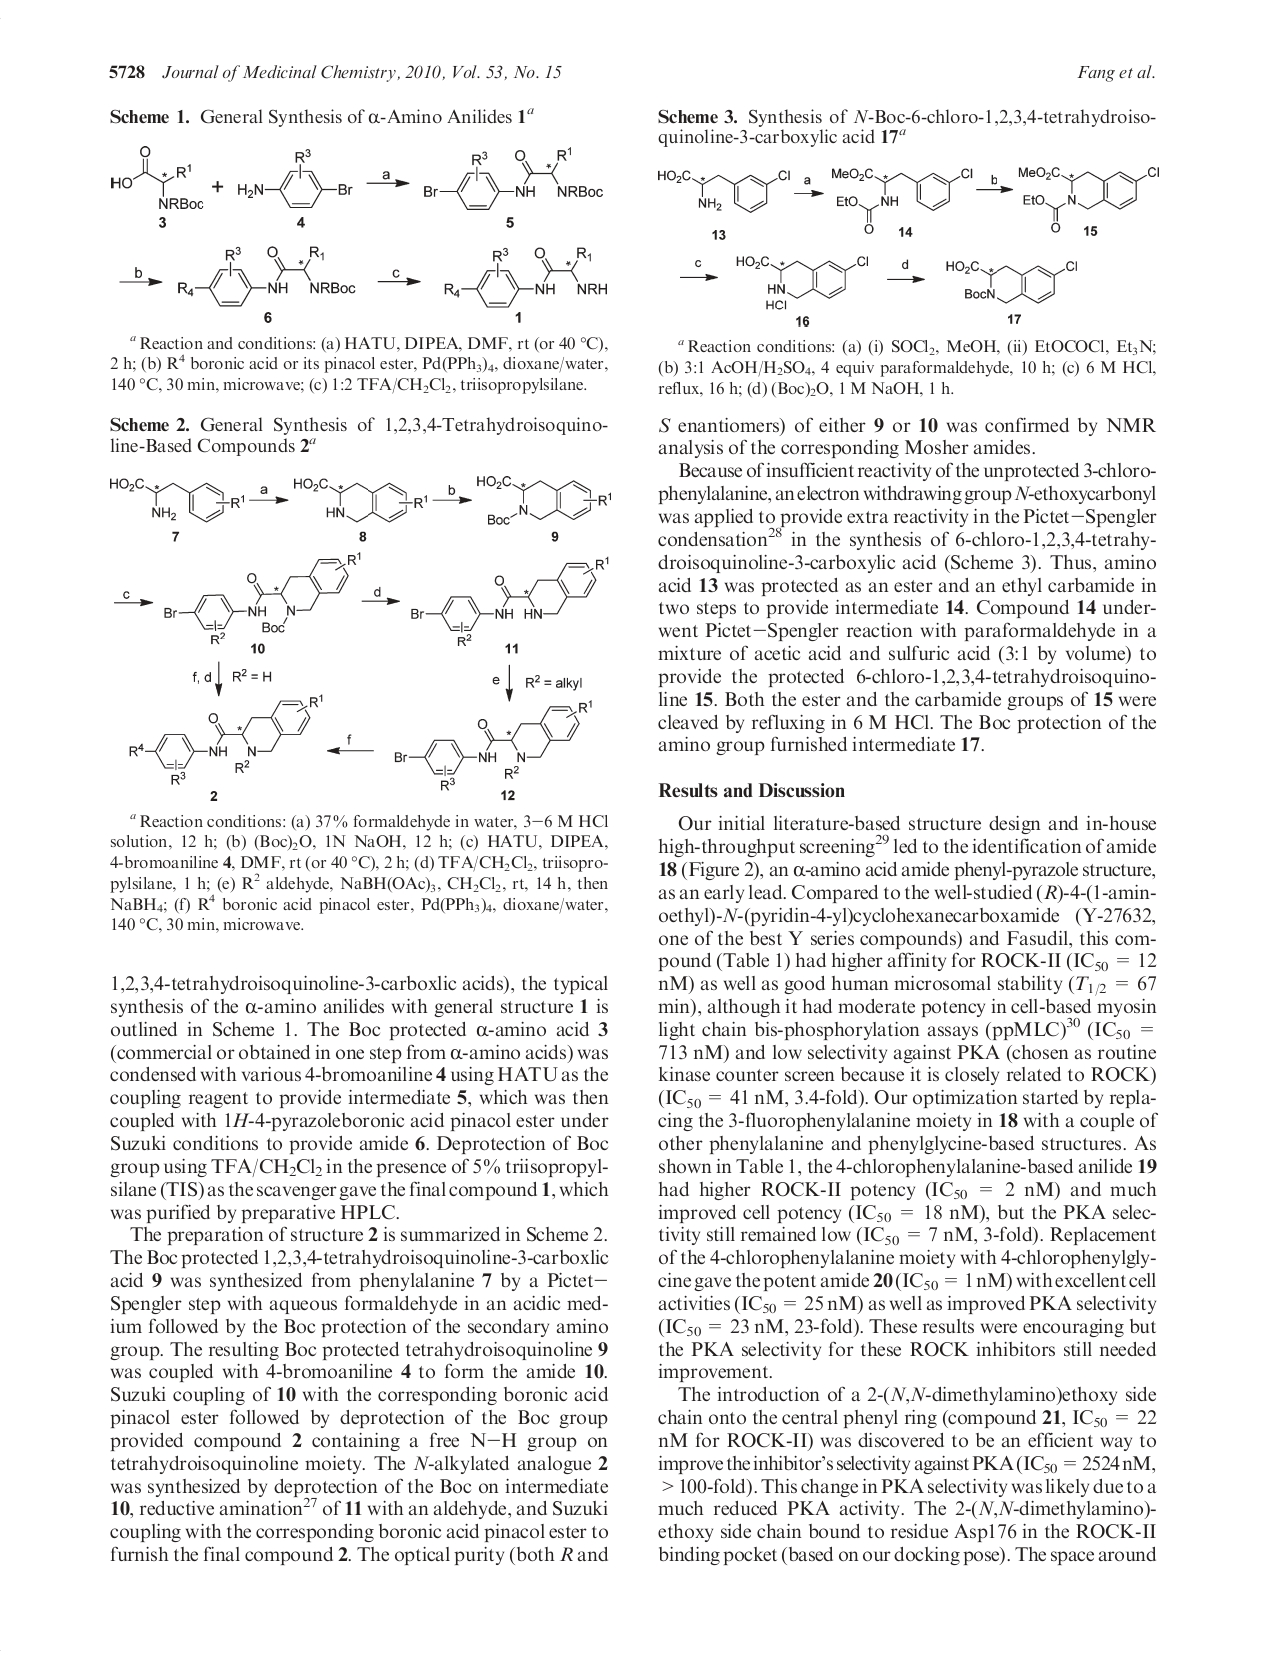exist_molecular: (162, 551, 363, 646), (392, 698, 594, 793), (410, 555, 610, 649), (128, 693, 324, 786), (176, 243, 356, 309), (423, 148, 606, 211), (442, 245, 609, 310), (828, 164, 973, 235), (1017, 164, 1161, 234), (734, 254, 870, 311), (473, 473, 613, 527), (235, 148, 352, 209), (106, 475, 246, 523), (291, 475, 428, 523), (109, 146, 206, 211), (944, 258, 1078, 305), (656, 169, 793, 213)
